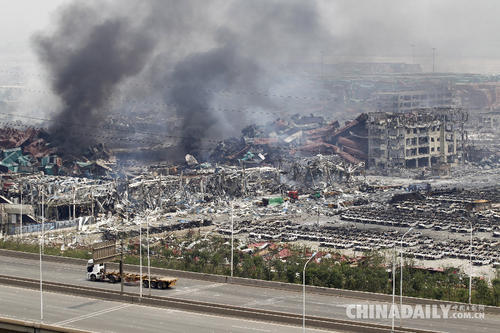smoke: (45, 3, 352, 161)
